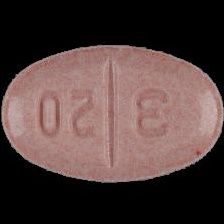68084-788: (0, 0, 224, 224)
